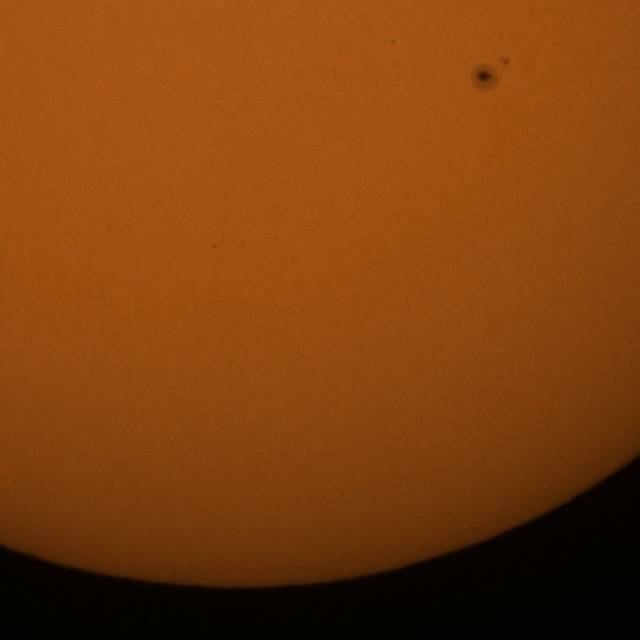sunspot: (474, 55, 512, 92), (473, 65, 495, 91), (498, 56, 511, 68), (210, 242, 219, 251), (390, 37, 397, 45)
